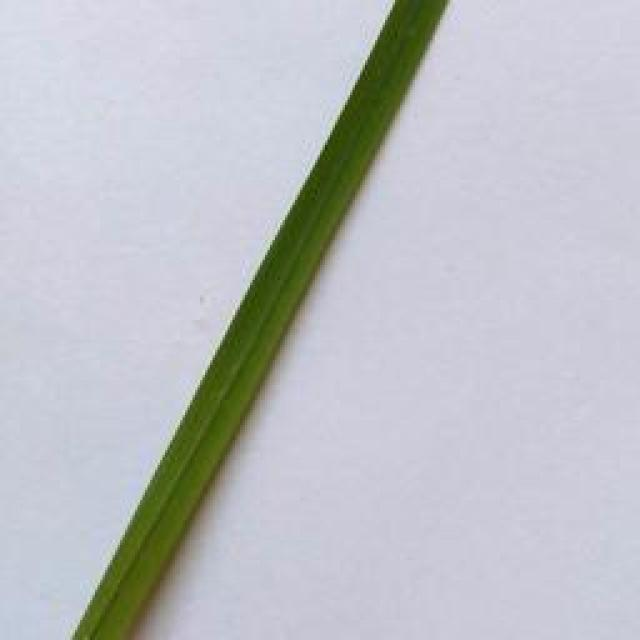Healthy-Plant: (70, 0, 448, 640)
